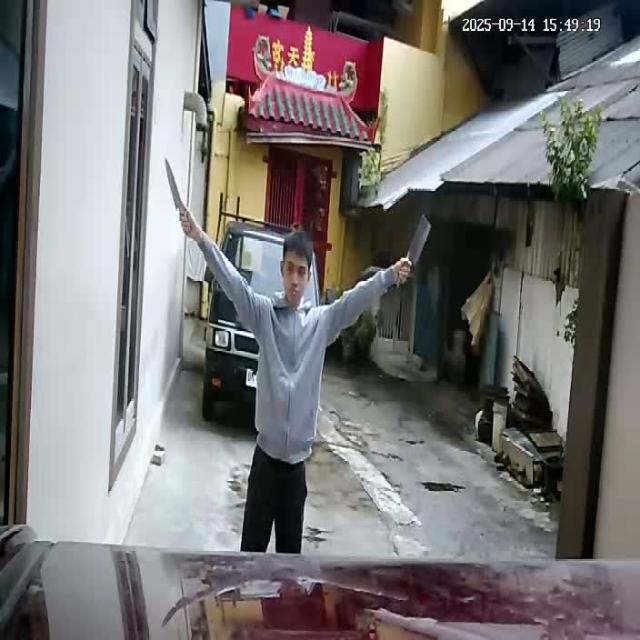senjata_tajam: (406, 210, 433, 266), (164, 156, 184, 211)
